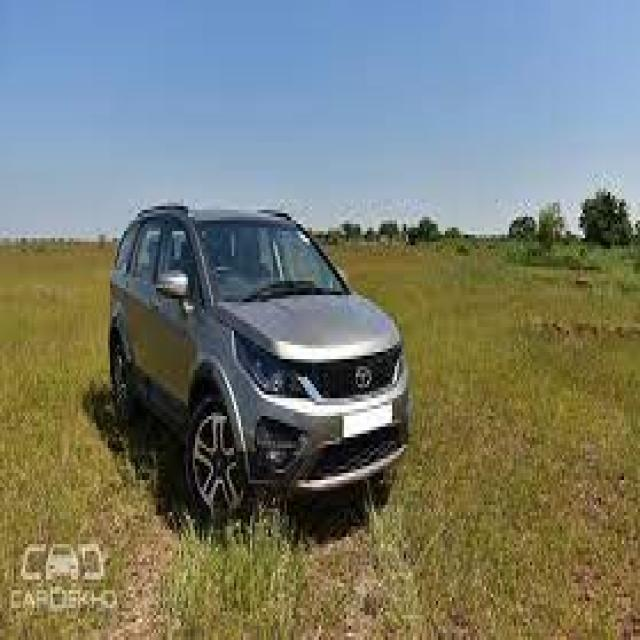car: (109, 204, 408, 522)
